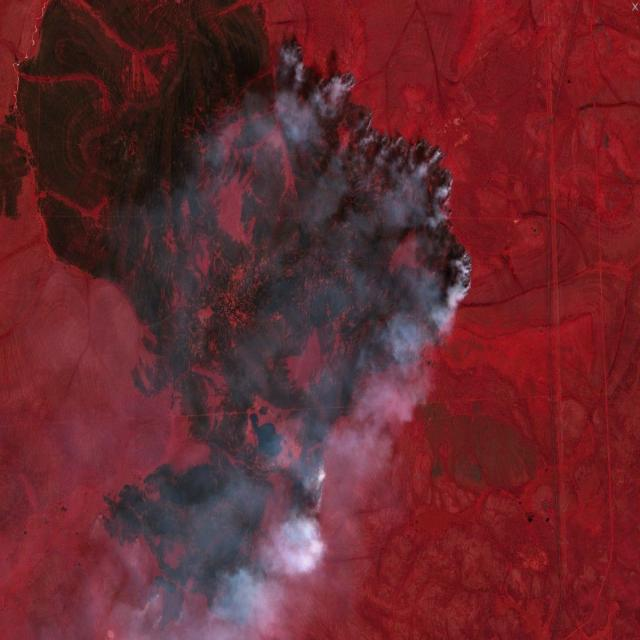fire: (270, 25, 478, 338), (282, 444, 341, 548)
